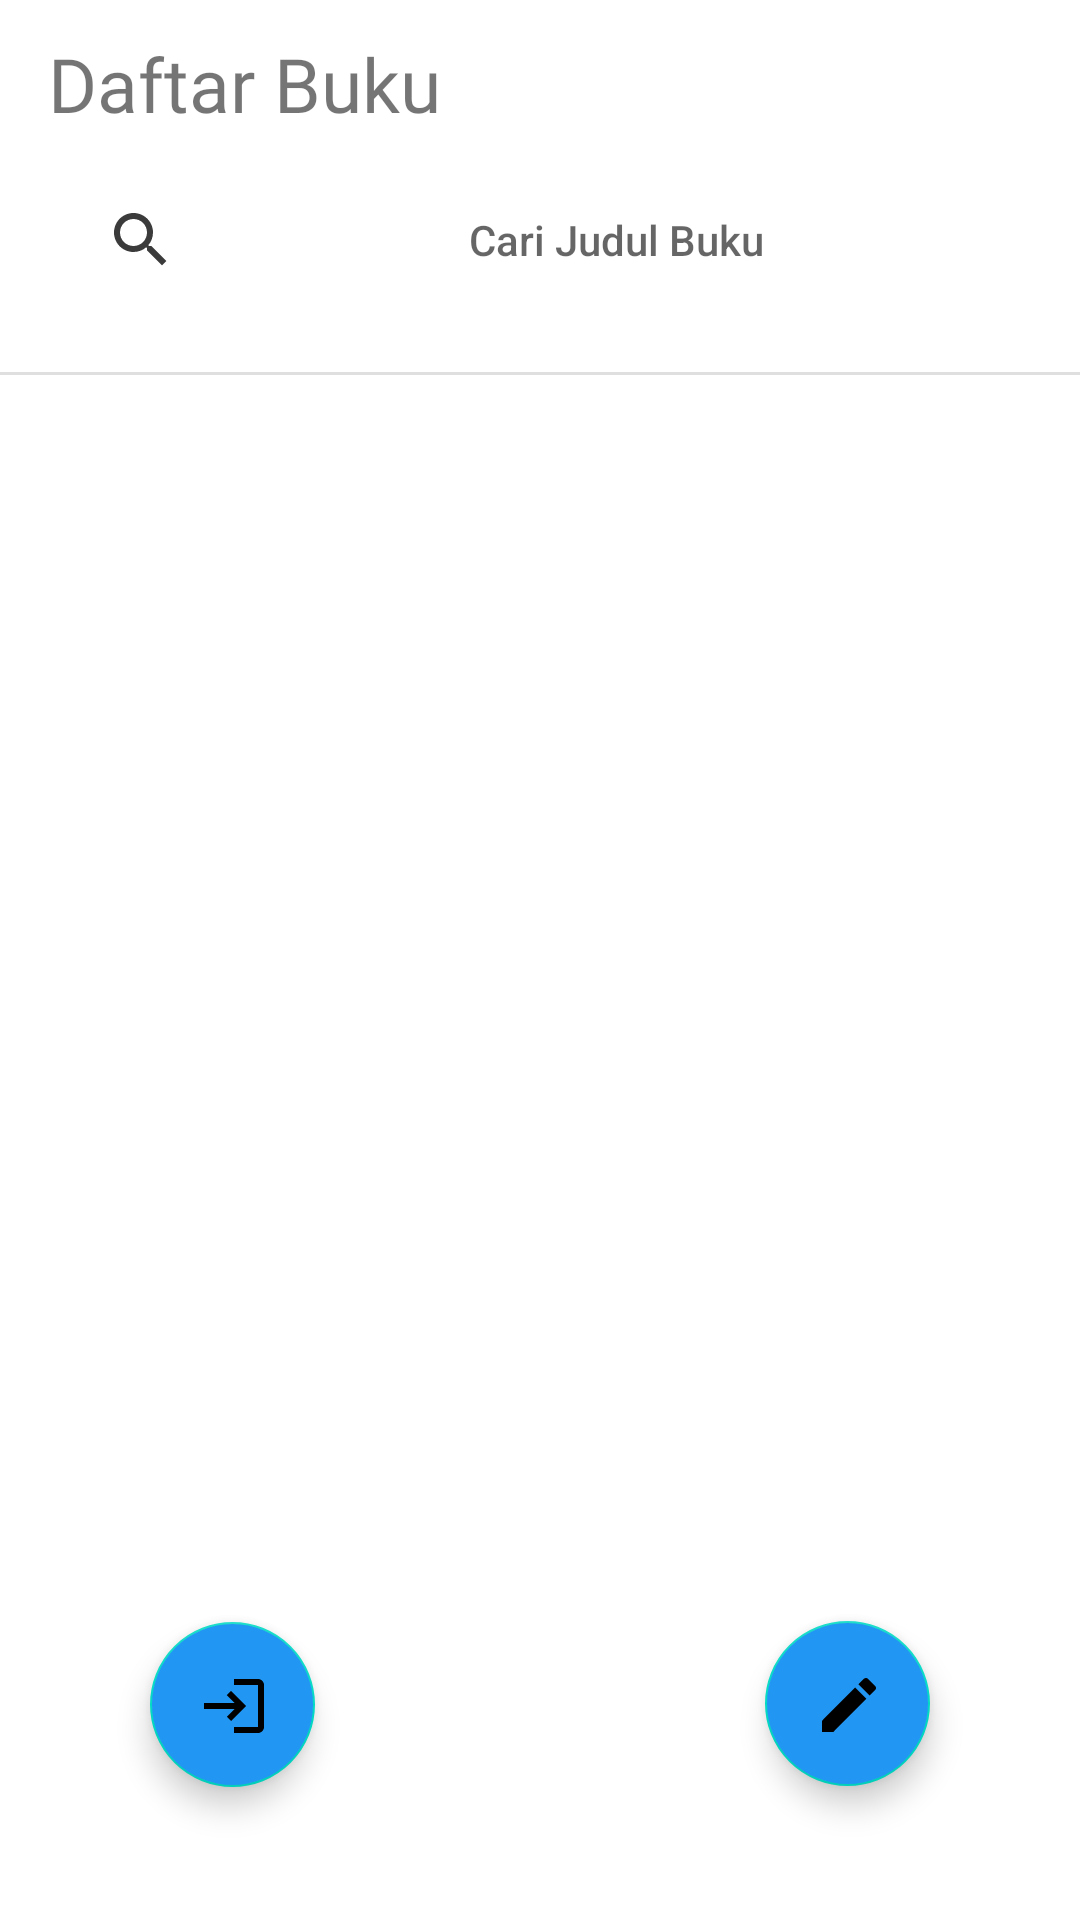

Icon click points for this 1080 x 1920 phone screenshot, format point (x, y):
edit: point (847, 1703)
login: point (232, 1704)
